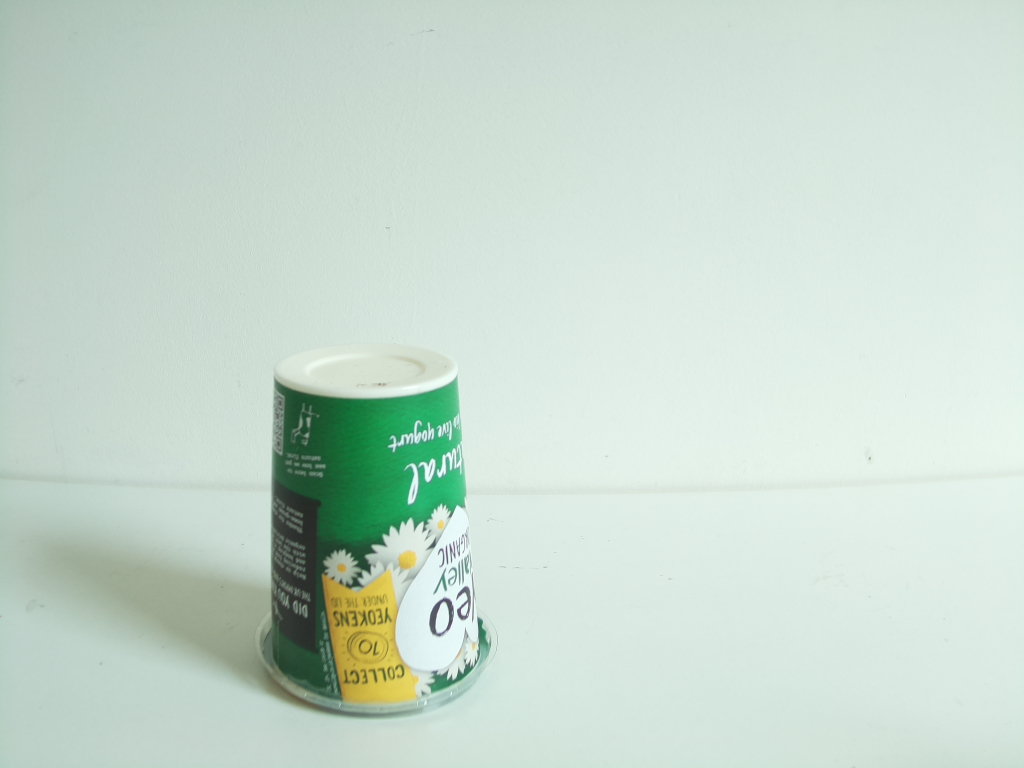yogurt: (247, 338, 501, 721)
